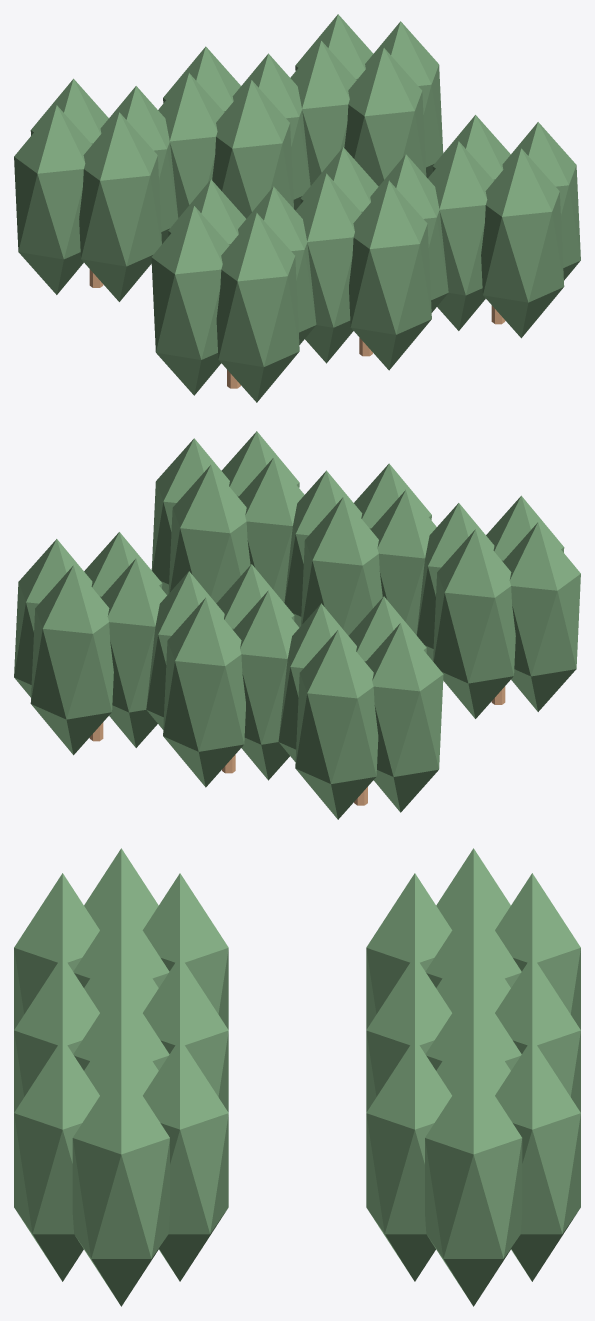
3 views of the same model, one above another, from view 1: azimuth 30°, elevation 25°; view 2: azimuth 150°, elevation 25°; view 3: azimuth 270°, elevation 25° (orthographic). The views are drawn at different scales.
Parts seen in each view (by area): view 1: Leaf.003, Leaf.011, Leaf.019, Leaf.007, Leaf.006, Leaf.002, Leaf.015, Leaf.023, Leaf.018, Leaf.010, Leaf.022, Leaf.014 (+12 smaller); view 2: Leaf.005, Leaf.013, Leaf.021, Leaf.001, Leaf.002, Leaf.006, Leaf.009, Leaf.017, Leaf.022, Leaf.014, Leaf.018, Leaf.010 (+12 smaller); view 3: Leaf.016, Leaf.020, Leaf.017, Leaf.023, Leaf.019, Leaf.021, Leaf.001, Leaf.007, Leaf.009, Leaf.015, Leaf.003, Leaf.005 (+12 smaller).
Part boxes in pixels (box(x1,y1,x2,y2)): Leaf.003: box(216, 213, 299, 402); Leaf.011: box(349, 180, 431, 370); Leaf.019: box(481, 148, 564, 338); Leaf.007: box(79, 112, 161, 301); Leaf.006: box(14, 105, 91, 294); Leaf.002: box(151, 206, 229, 395); Leaf.015: box(212, 80, 293, 218); Leaf.023: box(344, 48, 426, 186); Leaf.018: box(428, 141, 493, 330); Leaf.010: box(295, 173, 361, 363); Leaf.022: box(290, 40, 356, 185); Leaf.014: box(158, 73, 224, 217); Leaf.005: box(295, 630, 378, 819); Leaf.013: box(163, 597, 245, 787); Leaf.021: box(30, 565, 113, 755); Leaf.001: box(433, 529, 515, 718); Leaf.002: box(503, 522, 580, 711); Leaf.006: box(365, 623, 443, 812); Leaf.009: box(301, 497, 382, 635); Leaf.017: box(168, 465, 250, 603); Leaf.022: box(101, 558, 166, 747); Leaf.014: box(233, 590, 299, 780); Leaf.018: box(238, 457, 304, 602); Leaf.010: box(370, 490, 436, 634); Leaf.016: box(72, 1063, 169, 1306); Leaf.020: box(425, 1063, 522, 1306); Leaf.017: box(143, 1038, 228, 1281); Leaf.023: box(366, 1038, 451, 1281); Leaf.019: box(14, 1038, 99, 1281); Leaf.021: box(495, 1038, 580, 1281); Leaf.001: box(142, 873, 228, 1029); Leaf.007: box(366, 873, 452, 1029); Leaf.009: box(143, 956, 228, 1112); Leaf.015: box(366, 956, 451, 1112); Leaf.003: box(14, 873, 99, 1029); Leaf.005: box(495, 873, 580, 1029).
Size of the model in its own units: 0.6363 by 0.275 by 0.5795.
1 material, 1 textured.
